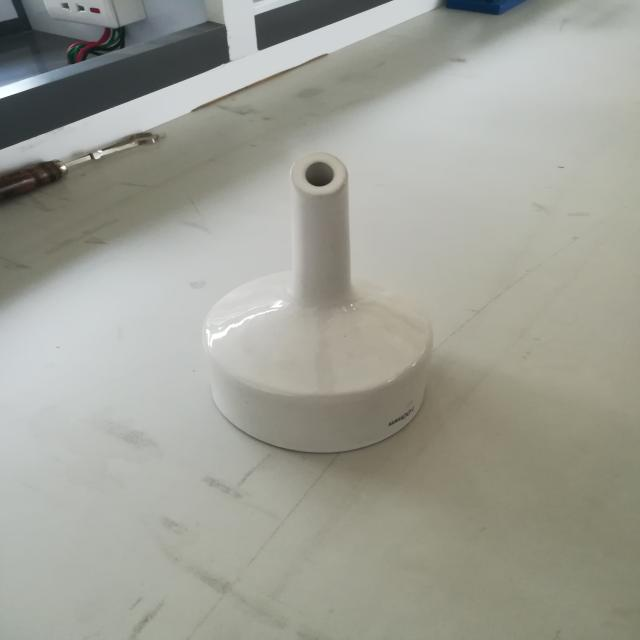Buchner_Funnel: (132, 115, 490, 510)
